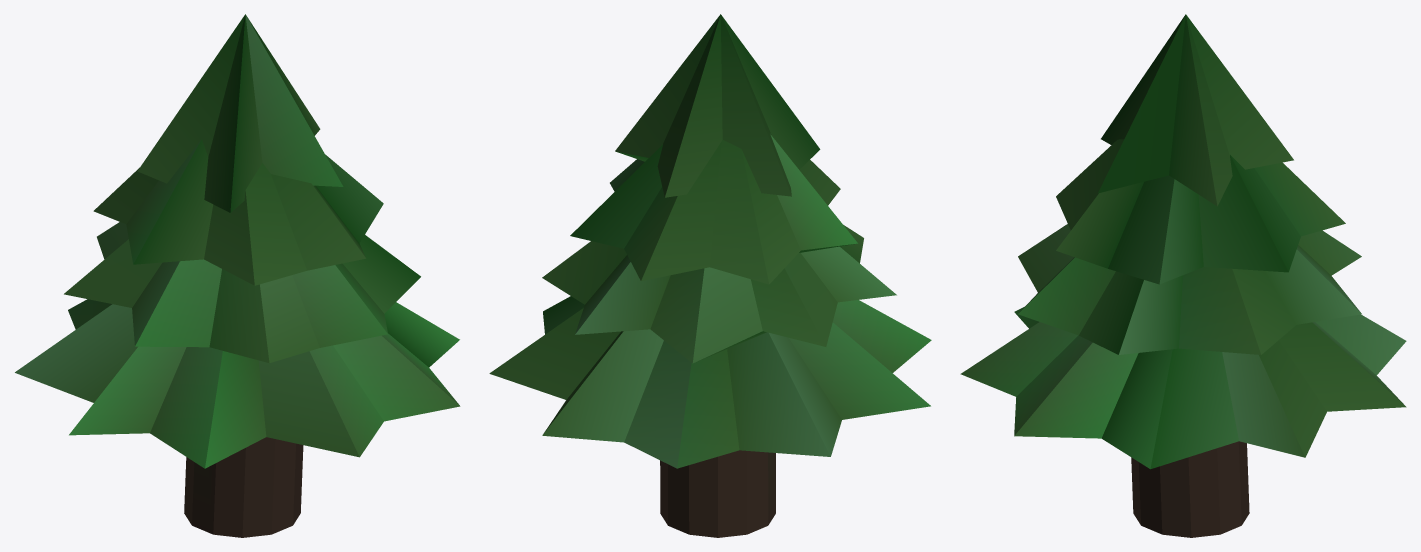
File: imatree.fbx
The picture shows the model from 3 angles, left to right: view 1: azimuth 30°, elevation 25°; view 2: azimuth 150°, elevation 25°; view 3: azimuth 270°, elevation 25°; orthographic projection.
Parts seen in each view (by area): view 1: imatree; view 2: imatree; view 3: imatree.
Boxes of the visible parts, x1,y1,x2,y2 form: imatree: [15, 14, 460, 537]; imatree: [489, 14, 931, 537]; imatree: [960, 14, 1406, 537].
Bounding box in the file's own units: 582 × 711 × 576.
